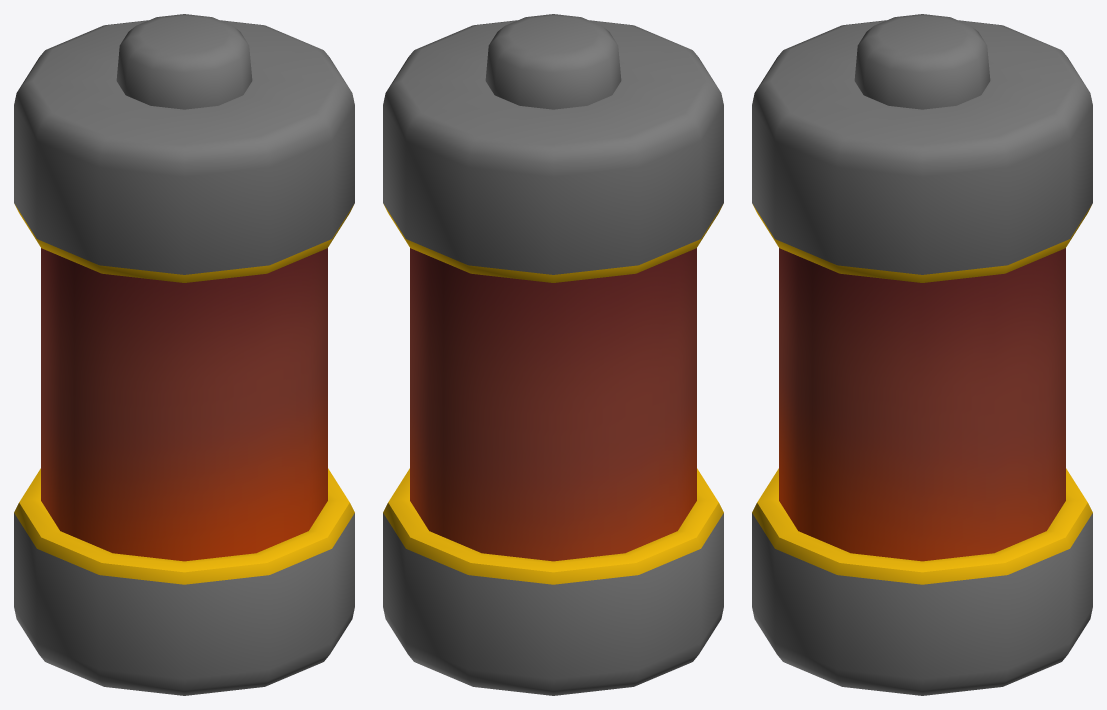
The model's file is Battrey_2.fbx.
3 views of the same model, side by side, from view 1: azimuth 30°, elevation 25°; view 2: azimuth 150°, elevation 25°; view 3: azimuth 270°, elevation 25° (orthographic).
Parts seen in each view (by area): view 1: Battrey_2; view 2: Battrey_2; view 3: Battrey_2.
Part boxes in pixels (left/top/right/bottom): Battrey_2: left=14, top=14, right=354, bottom=695; Battrey_2: left=383, top=14, right=723, bottom=695; Battrey_2: left=752, top=14, right=1092, bottom=695.
Size of the model in its own units: 0.1579 by 0.3047 by 0.1579.
